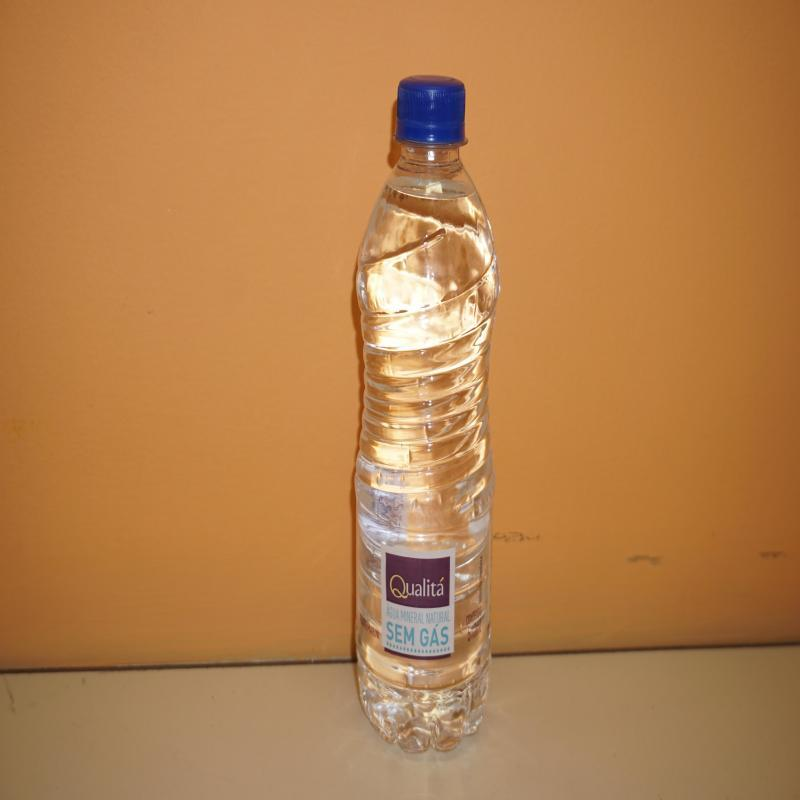Water: (353, 76, 500, 756)
